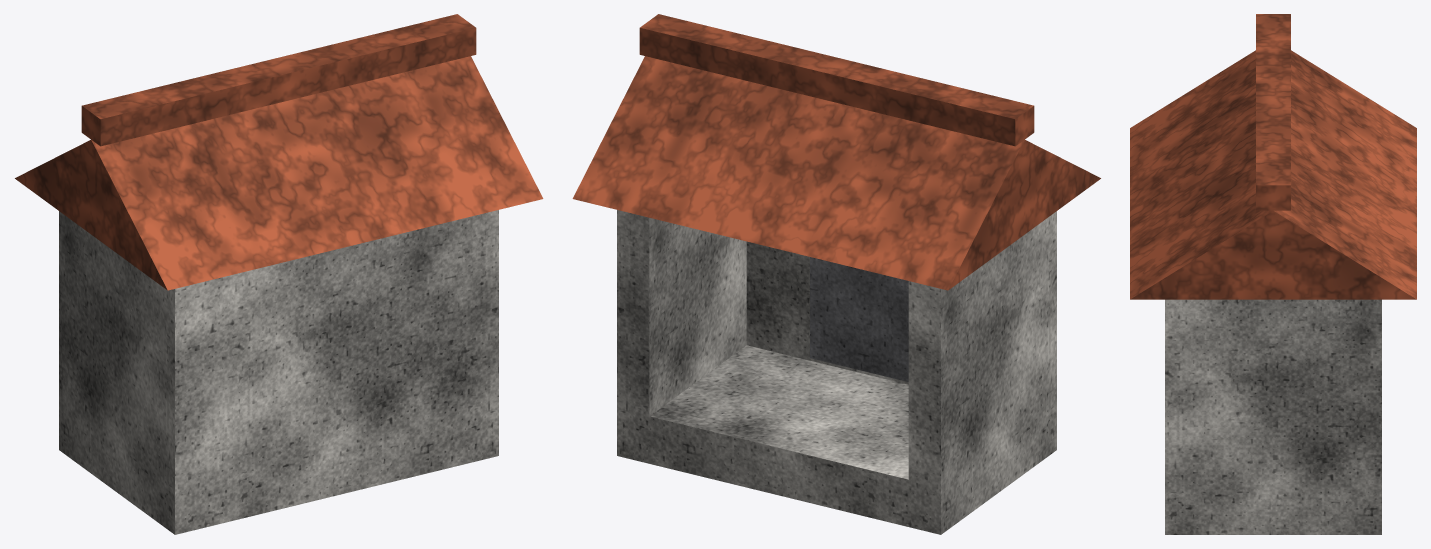
File: quay_shrine.fbx
The picture shows the model from 3 angles, left to right: view 1: azimuth 30°, elevation 25°; view 2: azimuth 150°, elevation 25°; view 3: azimuth 270°, elevation 25°; orthographic projection. The views are drawn at different scales.
Parts seen in each view (by area): view 1: quay_shrine; view 2: quay_shrine; view 3: quay_shrine.
Part boxes in pixels (x1,y1,x2,y2): quay_shrine: (15,14,543,534); quay_shrine: (572,14,1100,534); quay_shrine: (1130,14,1416,534).
Bounding box in the file's own units: 116 × 114 × 82.
